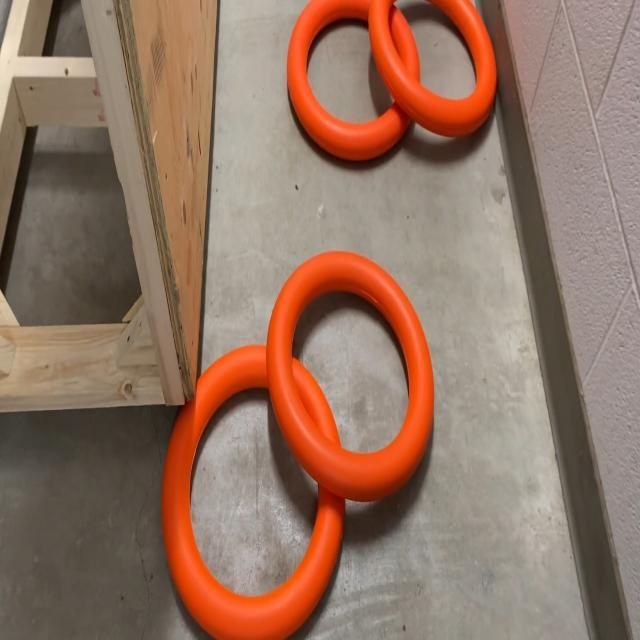note: (161, 340, 345, 640), (267, 248, 435, 508), (285, 0, 420, 166), (367, 0, 495, 138)
